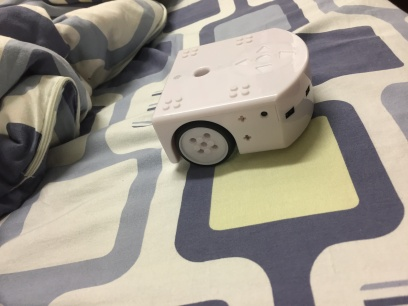thymio: (150, 26, 314, 168)
